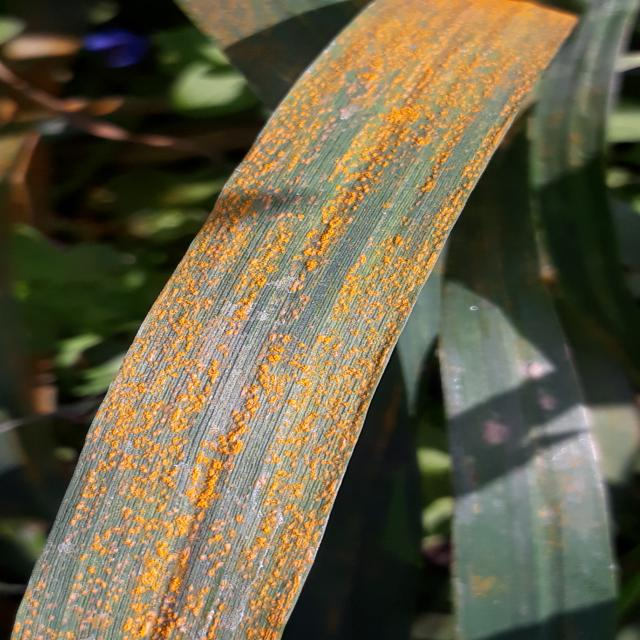yellow_rust: (6, 9, 574, 640)
